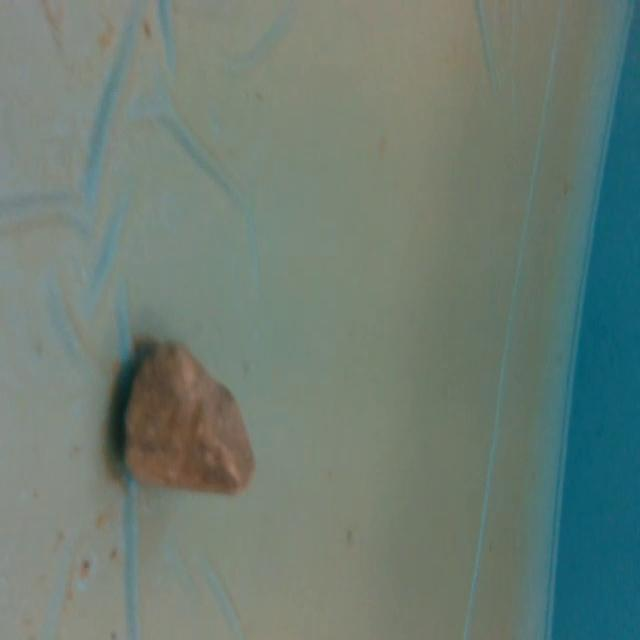rock: (117, 333, 261, 504)
